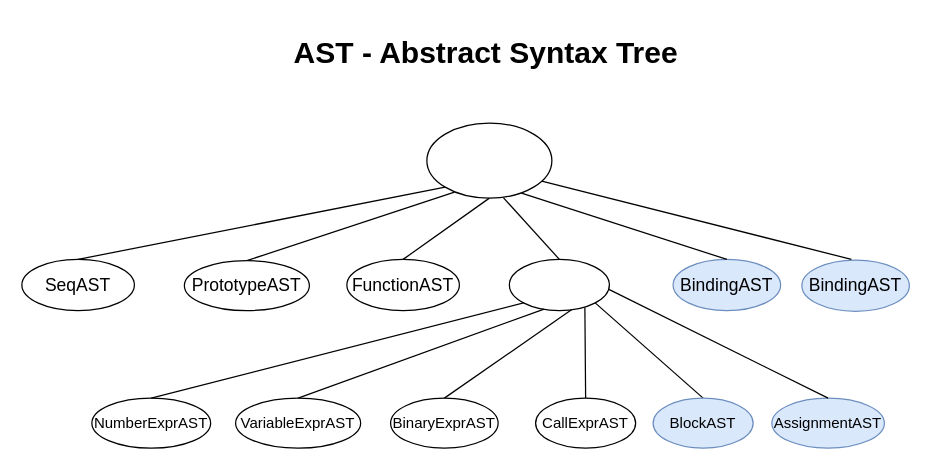
Some shapes in this 931 by 470 pixel diagram are drawn without their labels. The shapes that lost their labels are listed below. From the top down, each one's centre as x and y in pixels, then its label:
At [489,160]: "RootAST".
At [558,284]: "ExprAST".
